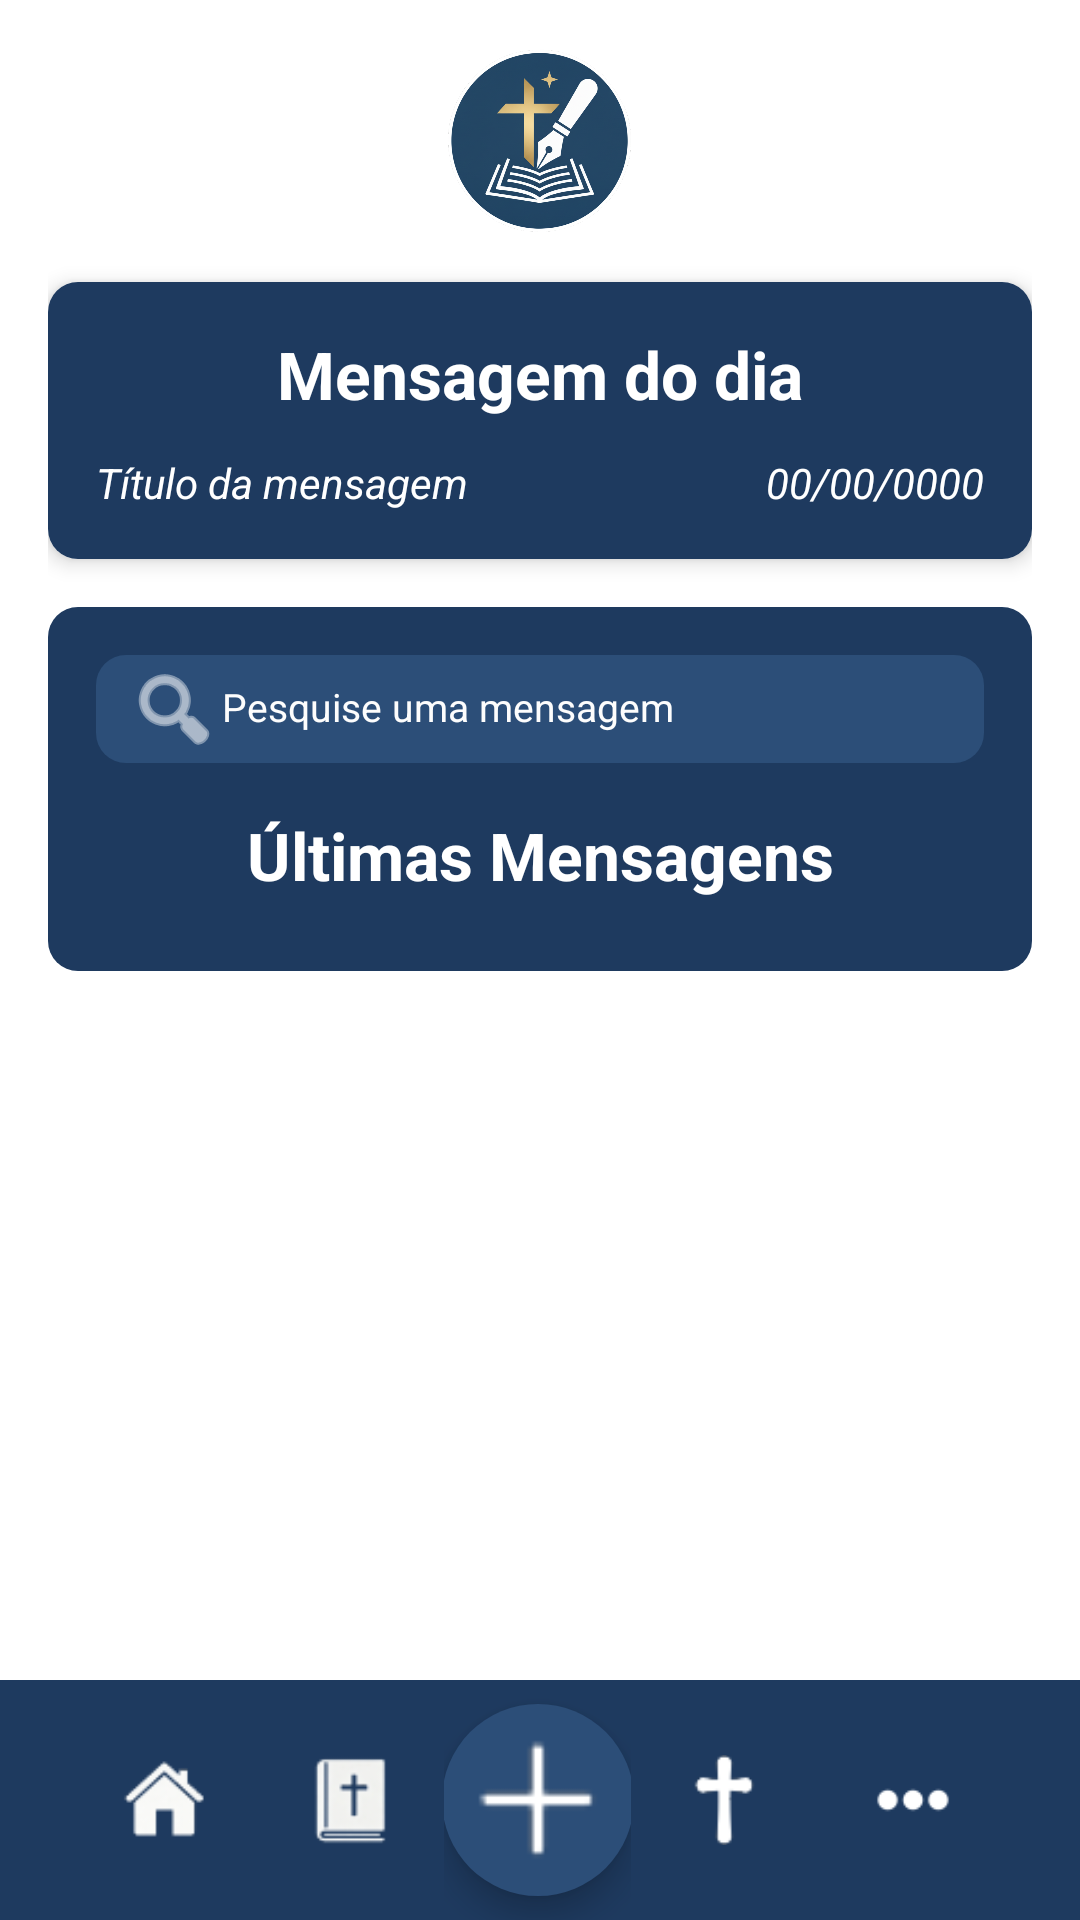

Icon bounding boxes for this 1080 × 1920 phone screenshot, format BBox(x1, y1, x2, y2):
Bíblia: BBox(316, 1759, 386, 1843)
Cruz: BBox(695, 1755, 753, 1845)
Início: BBox(124, 1761, 204, 1837)
Mais: BBox(877, 1789, 949, 1811)
